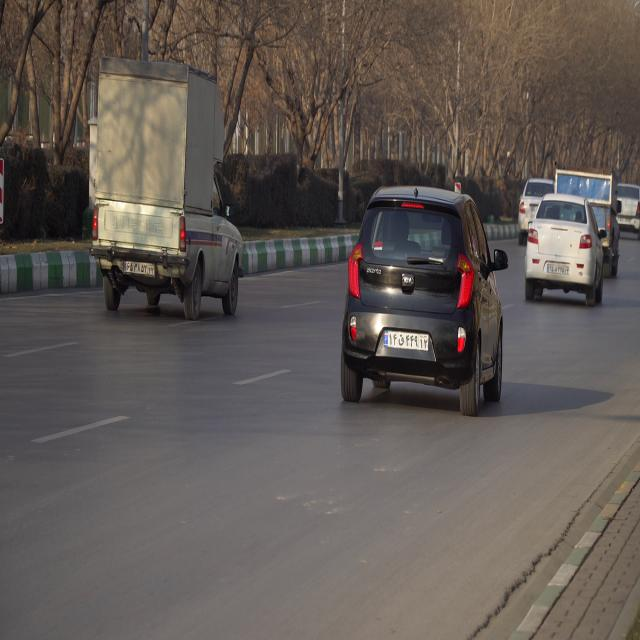truck: (86, 56, 244, 322), (340, 188, 508, 417), (525, 197, 601, 306), (552, 173, 619, 280), (518, 174, 550, 241), (619, 180, 640, 239)
